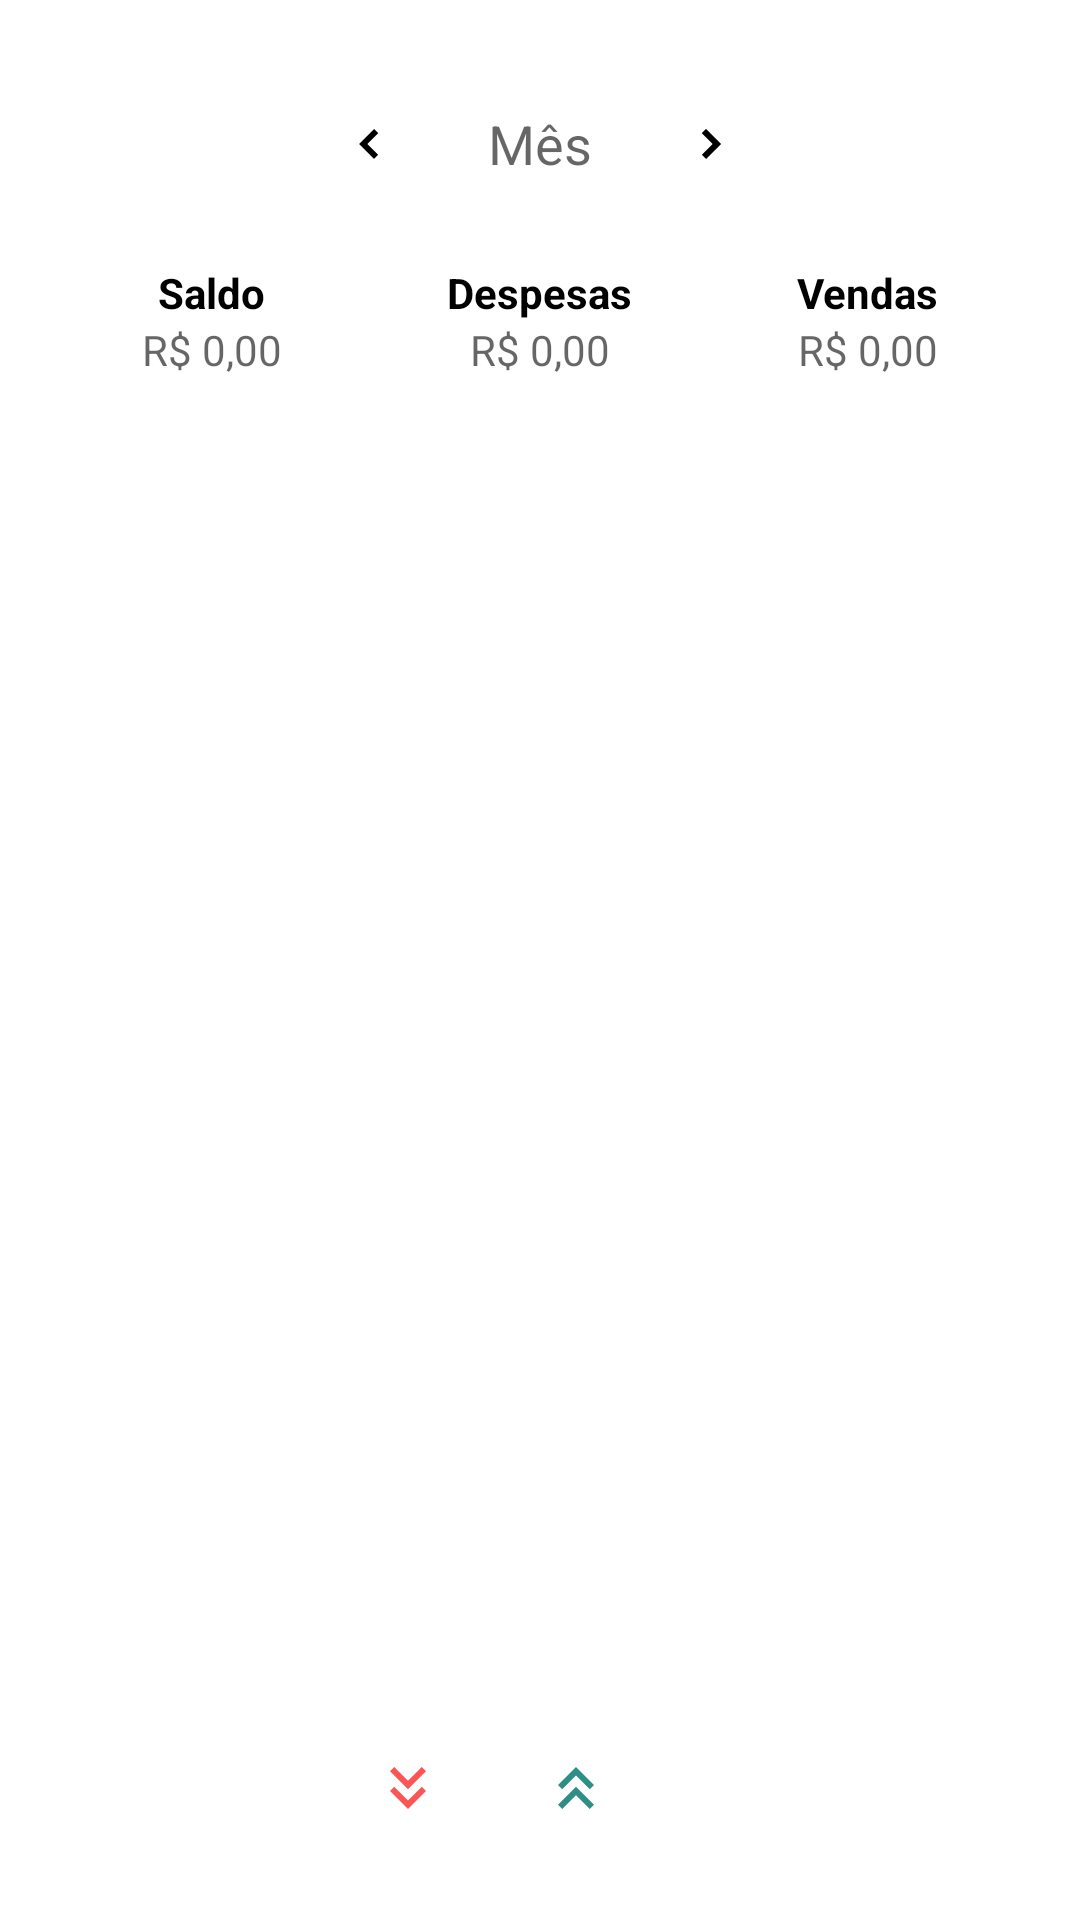

Icon click points for this 1080 x 1920 phone screenshot, format [x,y]:
Expense: [408,1788]
Income: [576,1788]
Next Month: [711,144]
Previous Month: [368,144]
